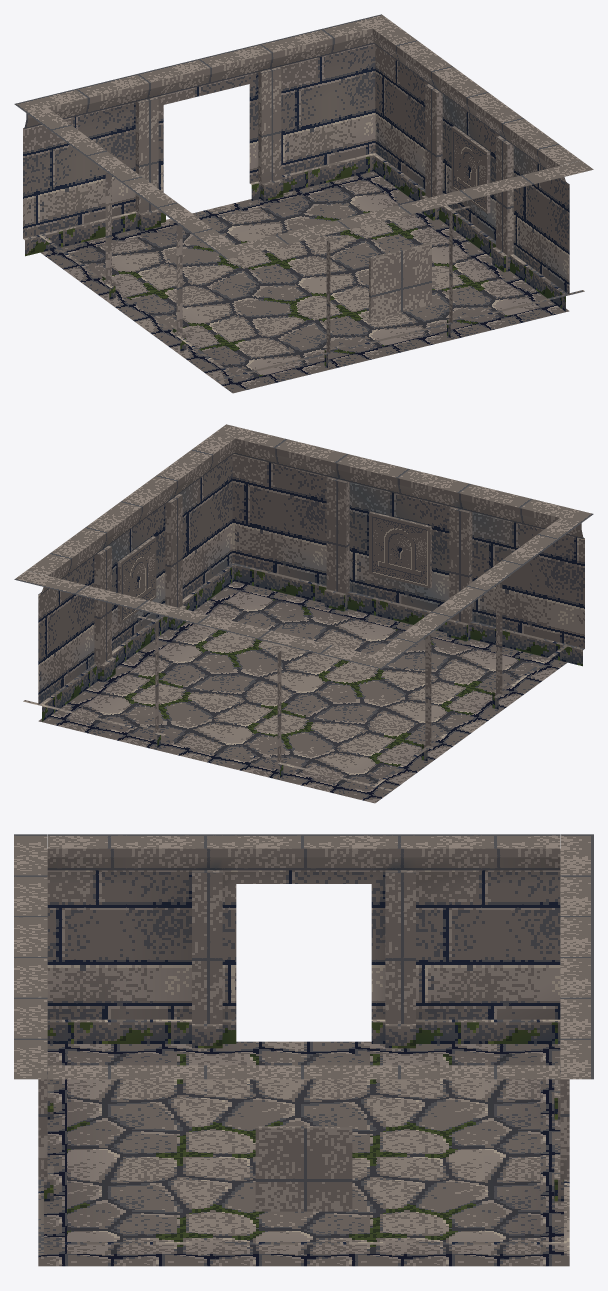
File: dgn.room__antechamber.glb
The picture shows the model from 3 angles, top to bottom: view 1: azimuth 30°, elevation 25°; view 2: azimuth 150°, elevation 25°; view 3: azimuth 270°, elevation 25°; orthographic projection. The views are drawn at different scales.
Parts seen in each view (by area): view 1: kit_shell_walls, kit_shell_floor, kit_reliefs; view 2: kit_shell_walls, kit_shell_floor, kit_reliefs; view 3: kit_shell_walls, kit_shell_floor, kit_reliefs.
Part boxes in pixels (<box>): kit_shell_walls: <box>14,14,593,380</box>; kit_shell_floor: <box>40,171,569,393</box>; kit_reliefs: <box>369,126,490,319</box>; kit_shell_walls: <box>14,424,593,790</box>; kit_shell_floor: <box>38,581,567,803</box>; kit_reliefs: <box>117,511,431,623</box>; kit_shell_walls: <box>14,834,593,1254</box>; kit_shell_floor: <box>38,1041,569,1266</box>; kit_reliefs: <box>255,1126,352,1211</box>.
Bounding box in the file's own units: 12 × 4.5 × 12.
Materials: 6 (6 with a texture image).
